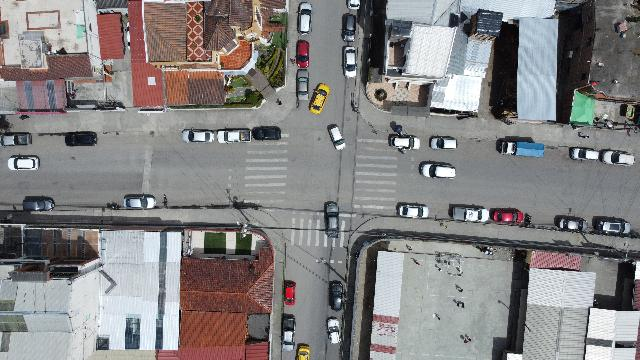Vehiculo: (418, 161, 456, 179), (308, 84, 329, 115), (388, 133, 420, 153), (600, 148, 634, 166), (451, 206, 489, 222), (217, 128, 251, 144), (489, 208, 523, 224), (597, 218, 631, 234), (326, 124, 346, 150), (281, 314, 295, 351), (23, 195, 55, 211), (396, 202, 428, 218), (7, 156, 39, 172), (326, 202, 340, 238), (124, 194, 156, 209), (298, 2, 312, 34), (342, 46, 356, 78), (182, 129, 214, 143), (340, 14, 356, 42), (65, 132, 97, 146), (1, 132, 32, 146), (296, 69, 310, 99), (558, 218, 588, 232), (295, 40, 309, 68), (252, 126, 280, 140), (429, 136, 457, 150), (326, 316, 340, 344), (329, 282, 343, 310), (569, 148, 599, 160), (284, 280, 296, 306), (294, 343, 310, 359), (348, 0, 360, 10)
